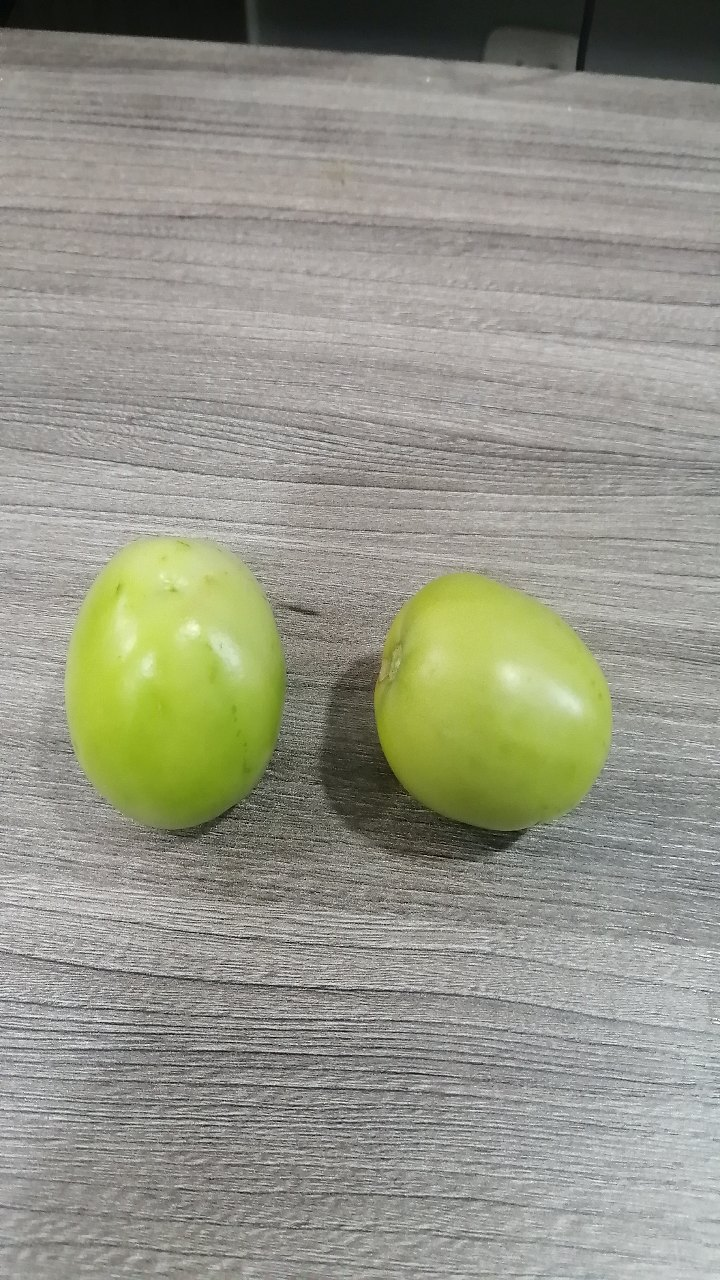tomateVerde: (38, 519, 301, 857), (351, 549, 626, 863)
